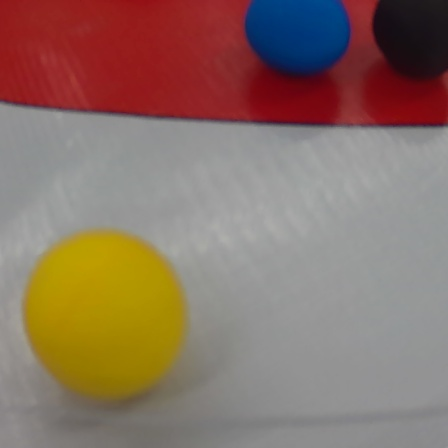black: (371, 2, 448, 81)
blue: (248, 1, 352, 74)
red_base: (2, 3, 448, 132)
yellow: (20, 226, 190, 409)
